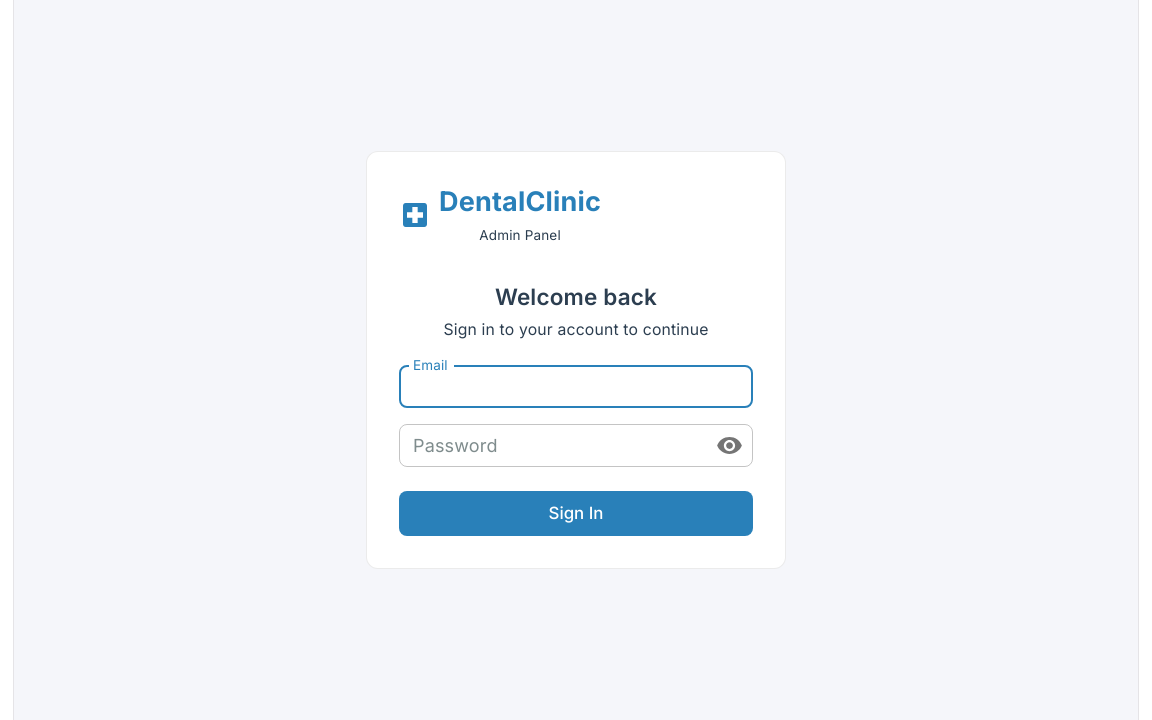
Test case: LoginPage › shows password required error
Type "test@test.com" into the field labelled "Email" at (576, 387), box x1=399 y1=365 x2=753 y2=408
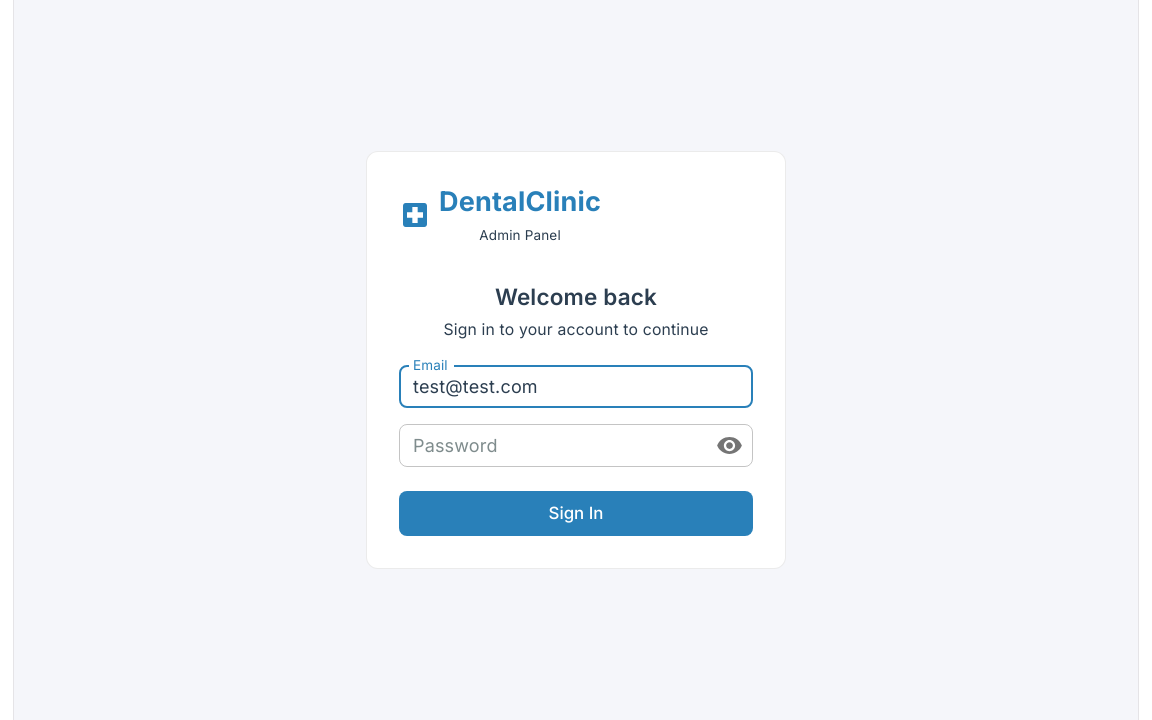
Click the button "Sign In" at (576, 514), box x1=399 y1=491 x2=753 y2=536
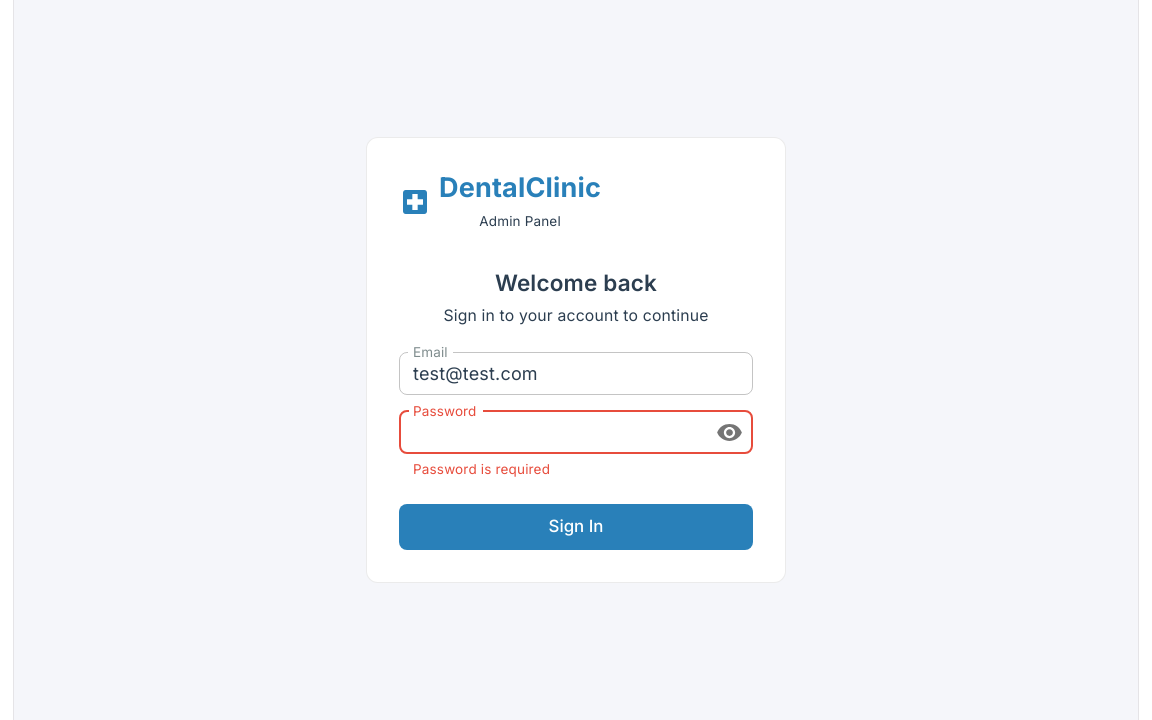
Check: the text "Password is required" is shown, box x1=413 y1=461 x2=550 y2=477
